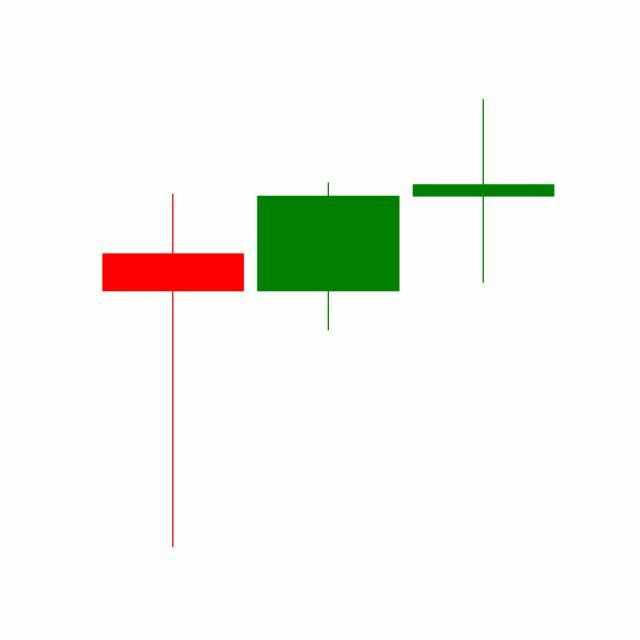Spinning Top: (406, 97, 562, 286)
